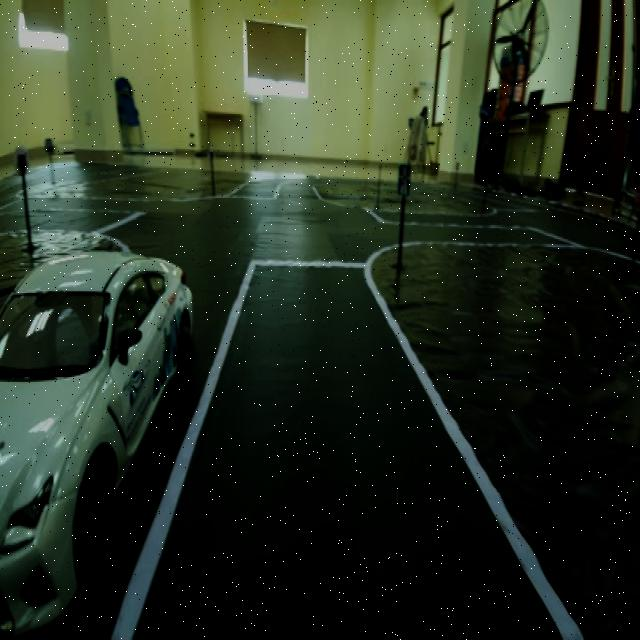car: (2, 145, 197, 626)
highway_exit: (389, 156, 418, 210)
